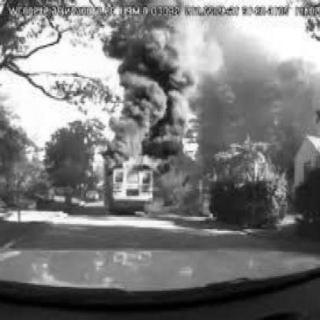Smoke: (80, 20, 218, 168)
